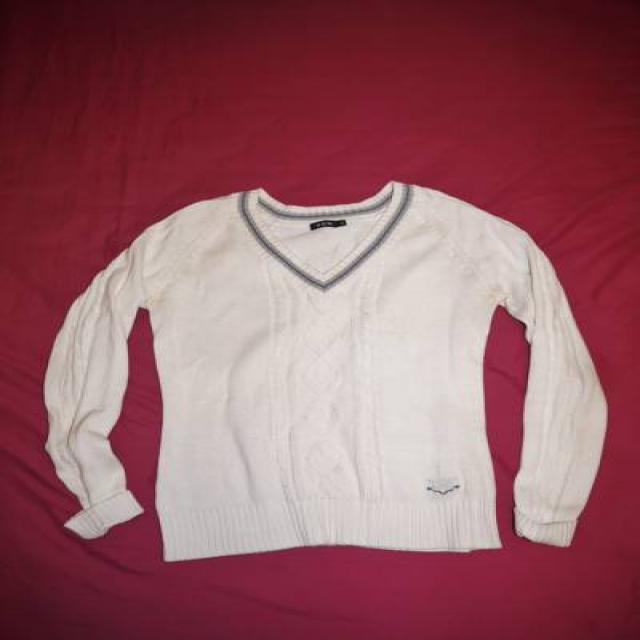Clothes -Biodegradable-: (37, 179, 609, 564)
